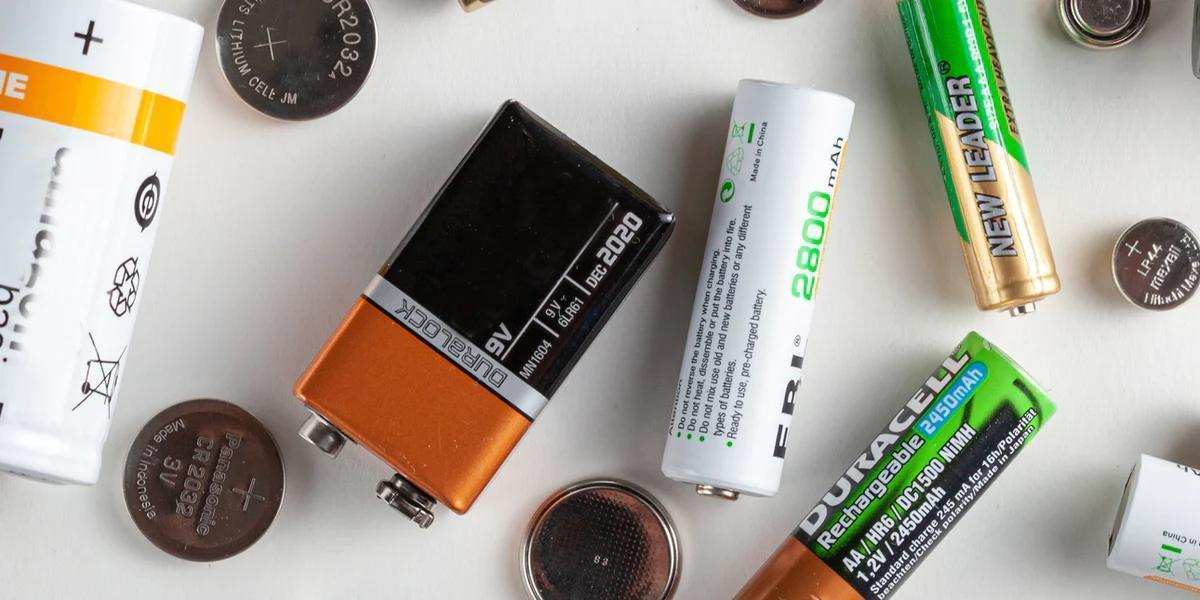9V: (291, 93, 681, 531)
AA: (728, 325, 1064, 599), (656, 73, 860, 508), (892, 0, 1064, 321)
COIN: (120, 393, 289, 564), (517, 473, 686, 599)
